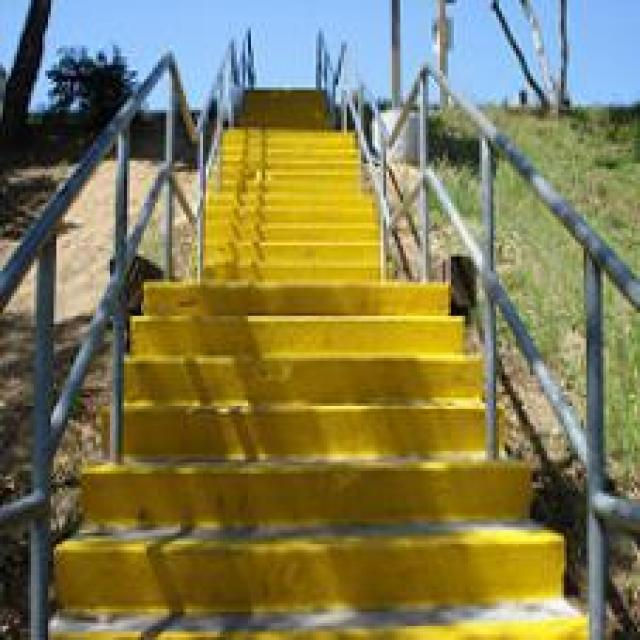upstair: (66, 345, 565, 568)
